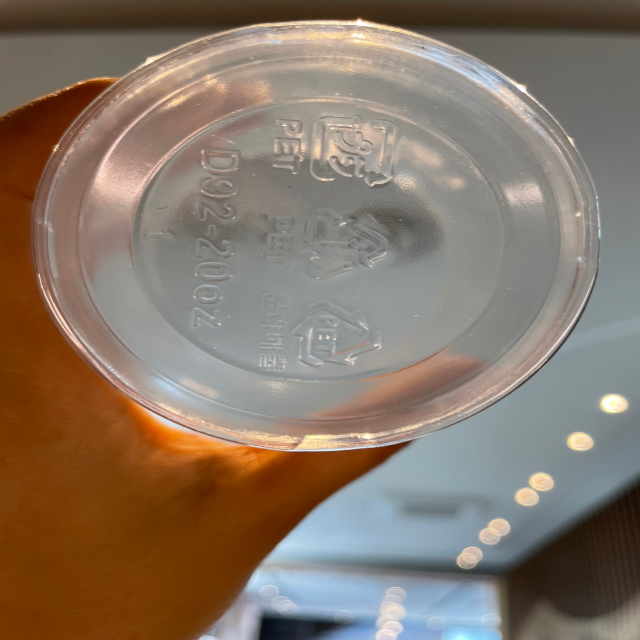pet: (253, 284, 395, 379), (267, 104, 401, 195), (263, 203, 389, 287)
